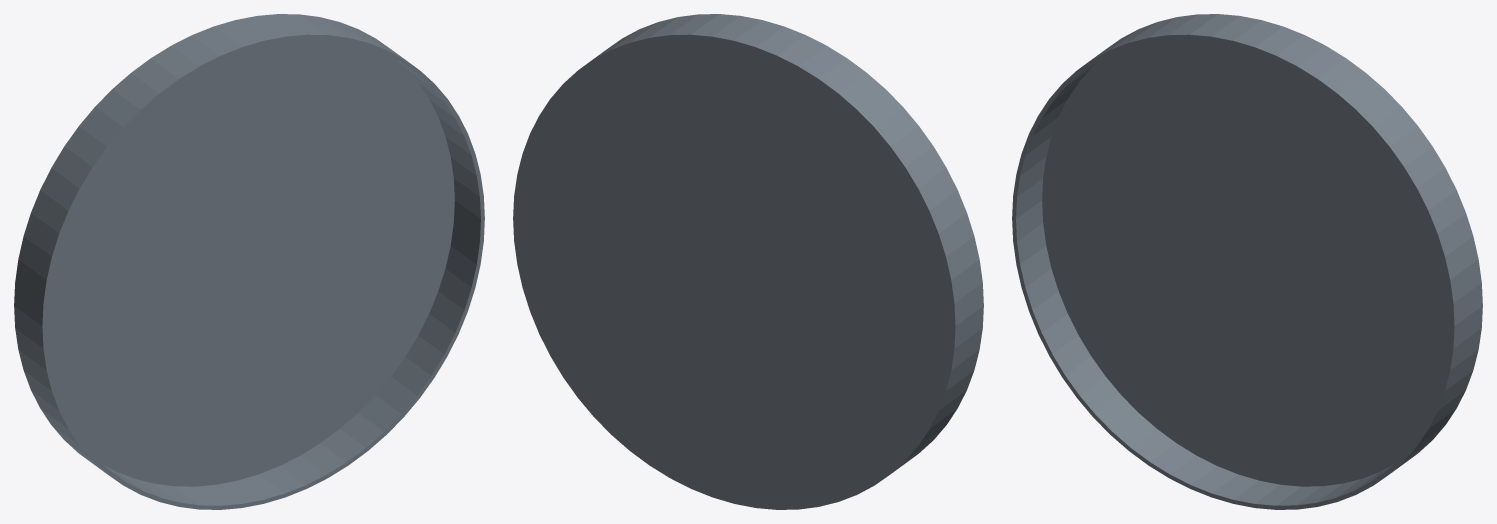
3 views of the same model, side by side, from view 1: azimuth 30°, elevation 25°; view 2: azimuth 150°, elevation 25°; view 3: azimuth 330°, elevation 25° (orthographic).
Parts seen in each view (by area): view 1: tin_lid.001; view 2: tin_lid.001; view 3: tin_lid.001.
Boxes of the visible parts, x1=… form: tin_lid.001: x1=14, y1=14, x2=484, y2=509; tin_lid.001: x1=513, y1=14, x2=983, y2=509; tin_lid.001: x1=1012, y1=14, x2=1482, y2=509.
Size of the model in its own units: 0.09 by 0.09 by 0.01.
